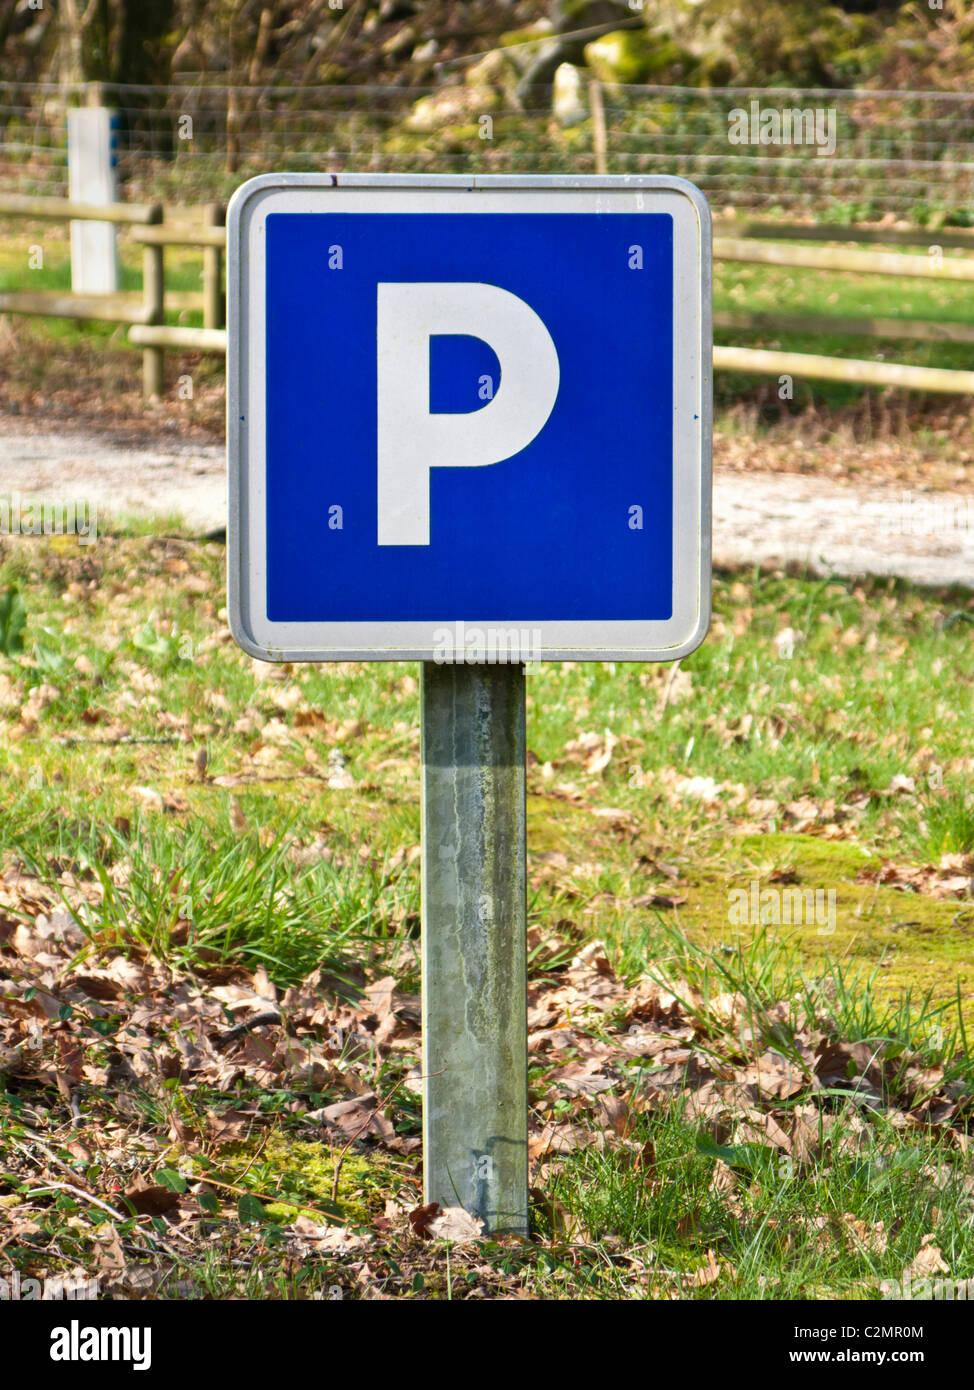parking: (230, 177, 710, 653)
